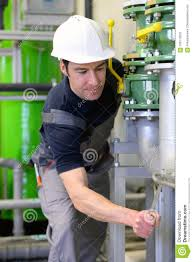Person_wearing_helmet: (45, 10, 119, 76)
